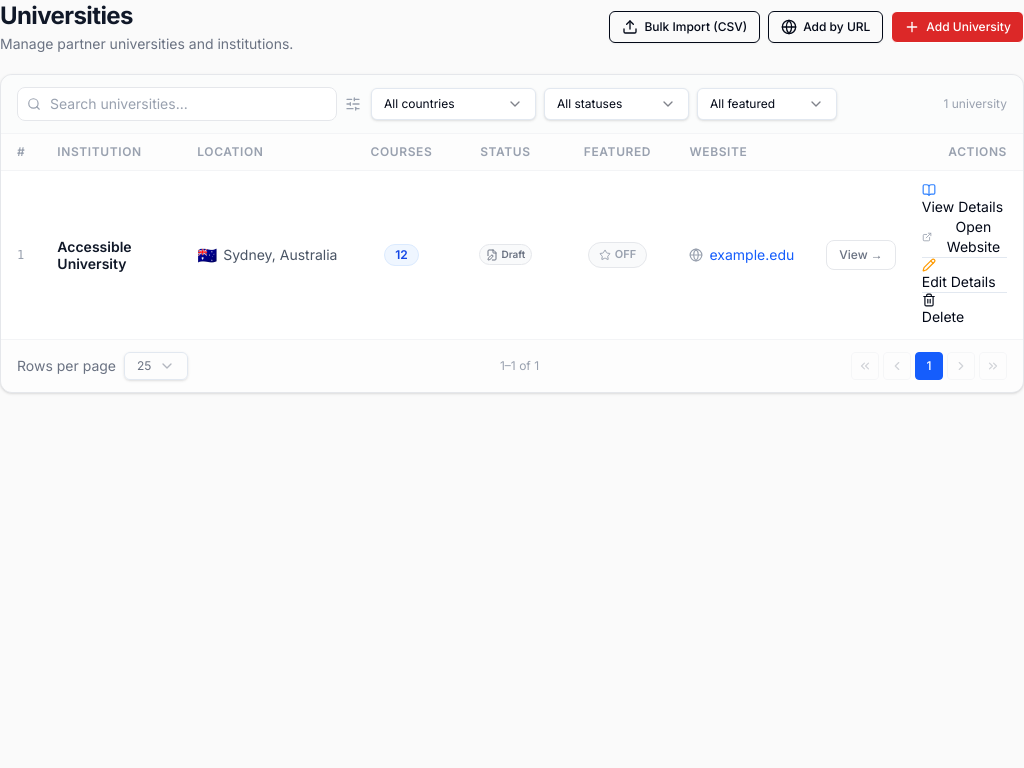
Scenario: Universities dialogs › opens the create dialog
Click the button "Add University".
click(958, 27)  # box [891,11,1023,43]
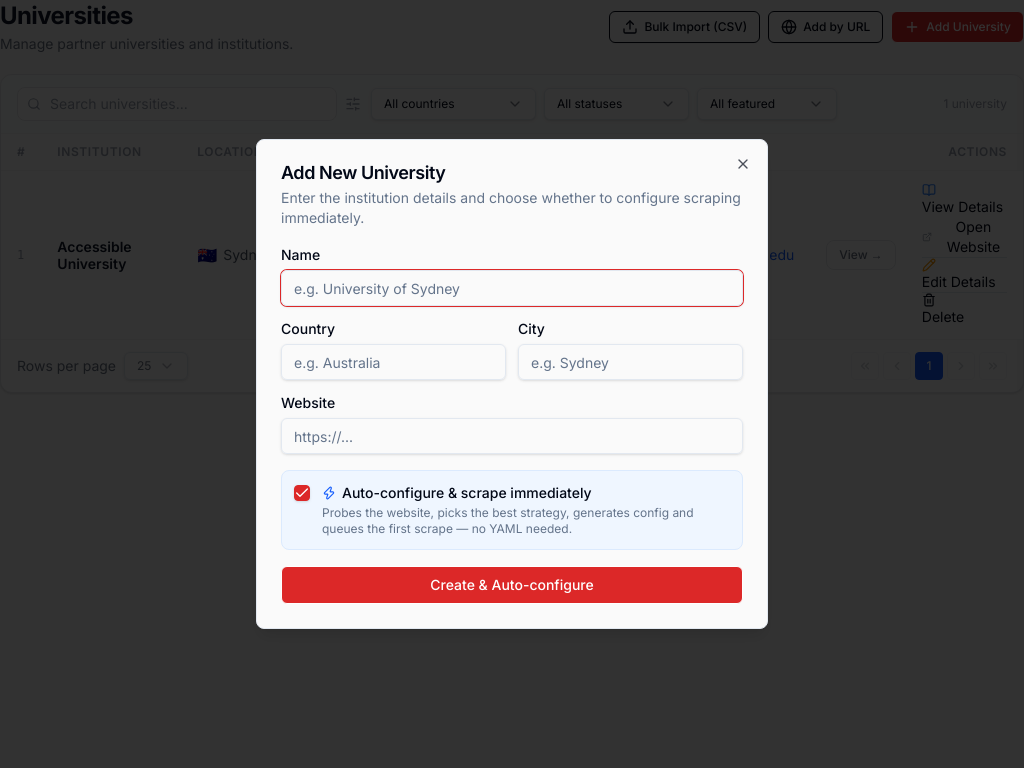
Expected: the dialog "Add New University" is shown, [256,139,768,629]
